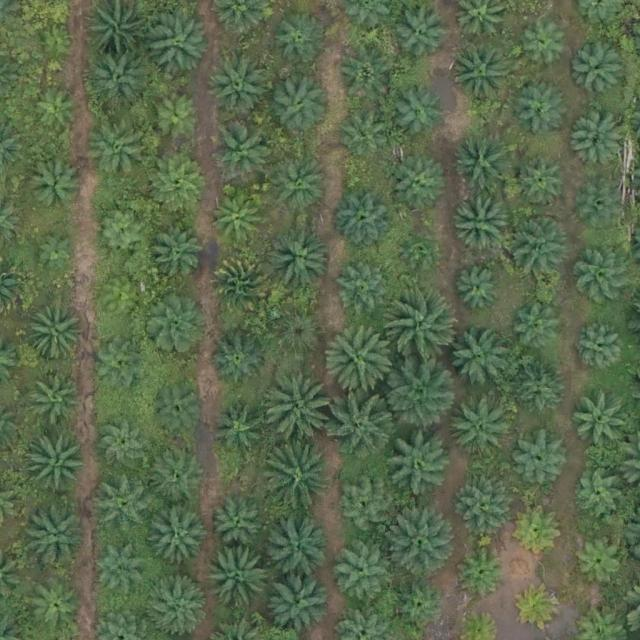Healthy: (384, 360, 455, 431), (385, 506, 456, 577), (326, 324, 397, 395), (262, 375, 333, 446), (389, 292, 459, 363), (385, 429, 455, 500), (329, 389, 399, 460), (260, 446, 330, 517), (505, 214, 568, 277), (267, 225, 330, 288), (265, 519, 328, 582), (207, 549, 270, 612), (147, 572, 210, 635), (95, 475, 158, 538), (25, 504, 88, 567), (90, 50, 153, 113), (150, 11, 213, 74), (210, 118, 273, 181), (267, 153, 330, 216), (571, 392, 633, 455), (449, 394, 511, 457), (335, 189, 397, 252), (269, 571, 331, 634), (26, 430, 88, 493), (88, 121, 150, 184), (149, 151, 211, 214), (207, 57, 270, 119), (269, 70, 331, 133), (451, 44, 513, 107), (453, 132, 515, 195), (452, 194, 514, 256), (448, 329, 510, 391), (145, 295, 207, 357), (26, 300, 88, 362), (573, 320, 628, 376), (392, 578, 447, 633), (578, 252, 633, 307), (511, 298, 566, 353), (269, 308, 324, 363), (151, 381, 206, 436), (209, 399, 264, 454), (571, 533, 626, 588), (572, 469, 627, 524), (336, 551, 391, 606), (339, 481, 394, 536), (337, 265, 392, 320), (209, 193, 264, 248), (213, 333, 268, 388), (150, 449, 205, 504), (213, 493, 268, 548), (98, 419, 153, 474), (152, 512, 207, 567), (93, 546, 148, 601), (28, 159, 83, 214), (273, 14, 328, 69), (339, 51, 394, 106), (394, 160, 449, 215), (395, 7, 450, 62), (390, 88, 445, 143), (519, 16, 574, 71), (513, 363, 567, 418), (457, 476, 511, 531), (511, 433, 565, 488), (147, 225, 201, 280), (93, 339, 147, 394), (32, 369, 86, 424), (30, 580, 84, 635), (90, 10, 144, 65), (152, 88, 206, 143), (338, 110, 392, 165), (515, 155, 569, 210), (515, 81, 569, 136), (573, 47, 627, 102), (571, 114, 625, 169)
Small: (96, 206, 151, 261), (455, 266, 502, 314), (33, 84, 80, 132), (34, 229, 81, 276), (461, 548, 508, 595), (580, 183, 627, 230), (35, 20, 82, 67), (399, 231, 438, 270)
Yellow: (213, 254, 275, 317), (90, 277, 145, 332), (517, 584, 564, 632), (517, 508, 564, 555)
